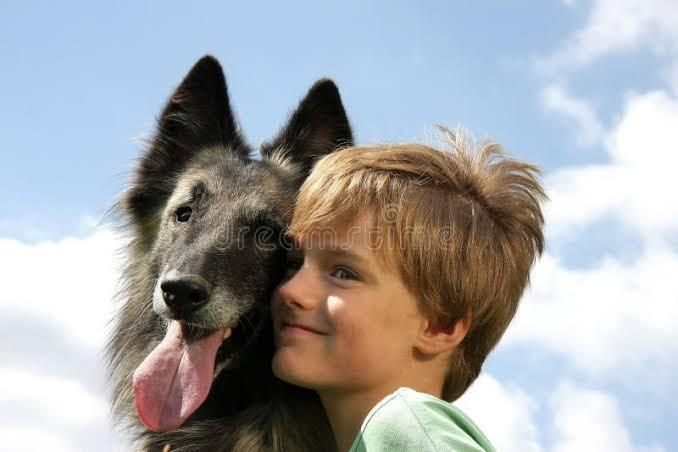adult_dog: (100, 53, 358, 452)
non-dog: (265, 129, 551, 452)
